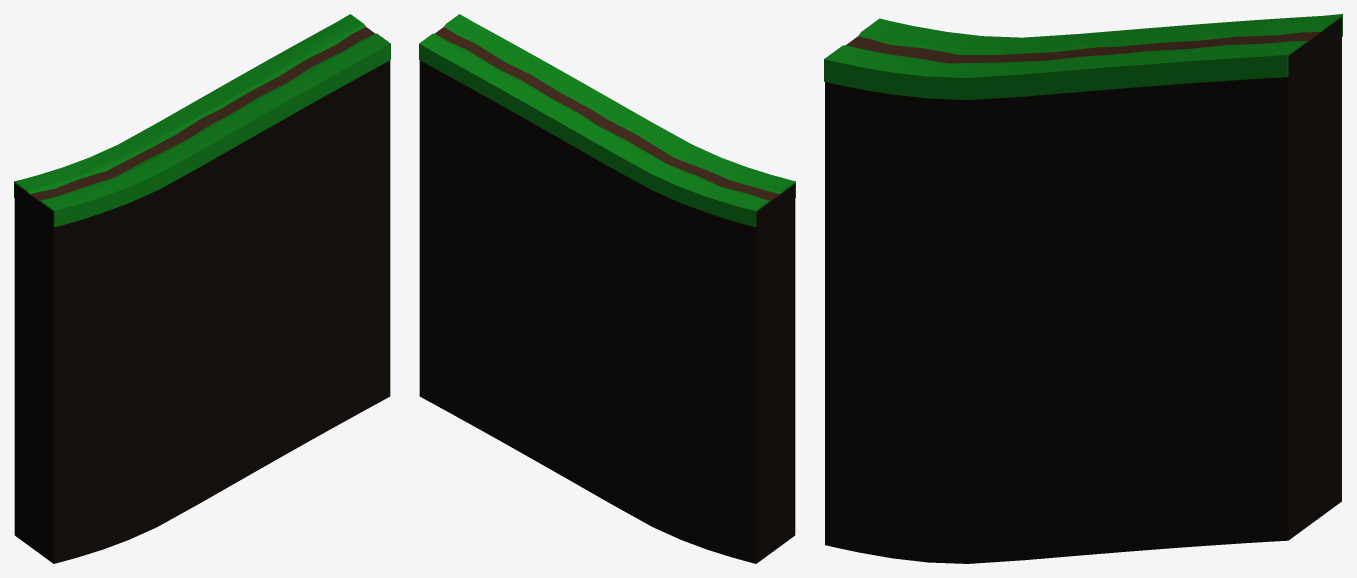
The model's file is blockSlope04.fbx.
The picture shows the model from 3 angles, left to right: view 1: azimuth 30°, elevation 25°; view 2: azimuth 150°, elevation 25°; view 3: azimuth 330°, elevation 25°; orthographic projection. The views are drawn at different scales.
Visible parts, largest first — view 1: Box001; view 2: Box001; view 3: Box001.
Part boxes in pixels (left/top/right/bottom): Box001: left=14, top=14, right=390, bottom=563; Box001: left=419, top=14, right=795, bottom=563; Box001: left=824, top=14, right=1342, bottom=563.
Size of the model in its own units: 50 by 10.41 by 62.32.
